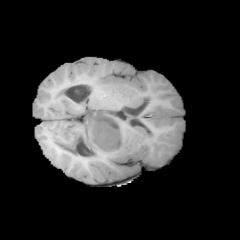glioma: (86, 112, 127, 153)
